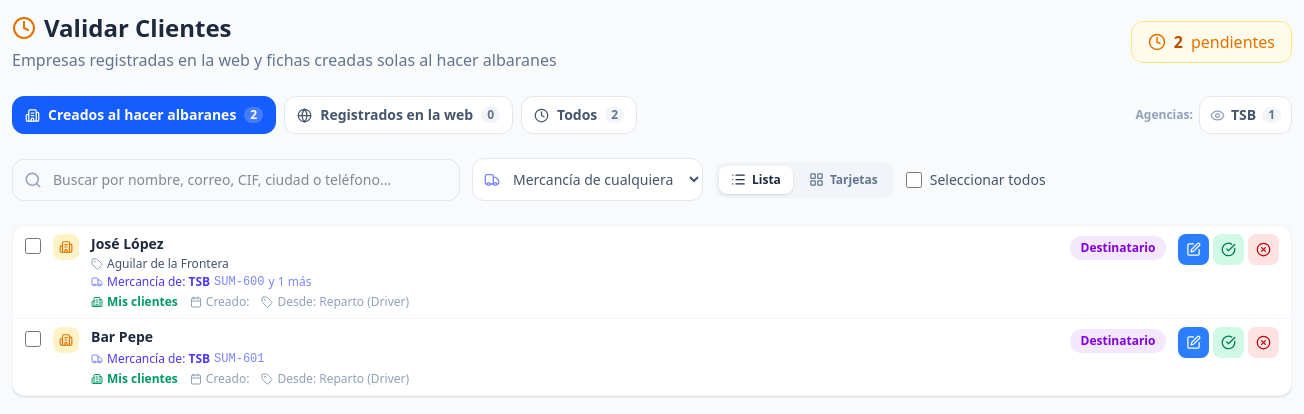
Test: Validar Clientes — quién le mandó la mercancía › el filtro «Mercancía de» deja sólo las fichas de esa empresa, también las del "y 1 más"
# PROSERVICE sólo sale como "y 1 más" en José López: aun así la encuentra.
Select "PROSERVICE (1)" in the dropdown named "quién mandó la mercancía" at (588, 180), box top-left (472, 158), bottom-right (703, 201)
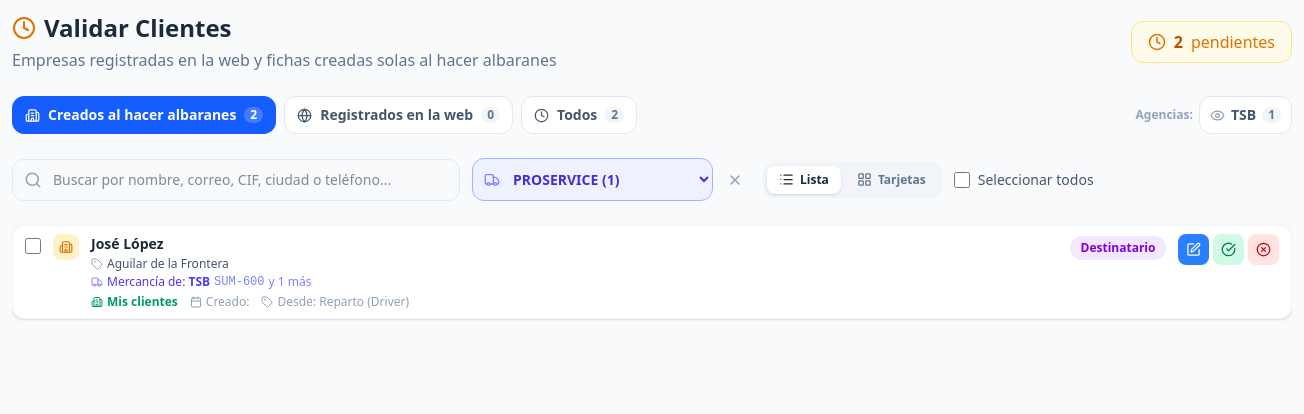
expect the text "José López" is shown: met, box top-left (91, 234), bottom-right (164, 254)
expect the text "Bar Pepe" is gone: met
Select "TSB (2)" in the dropdown named "quién mandó la mercancía" at (592, 180), box top-left (472, 158), bottom-right (713, 201)
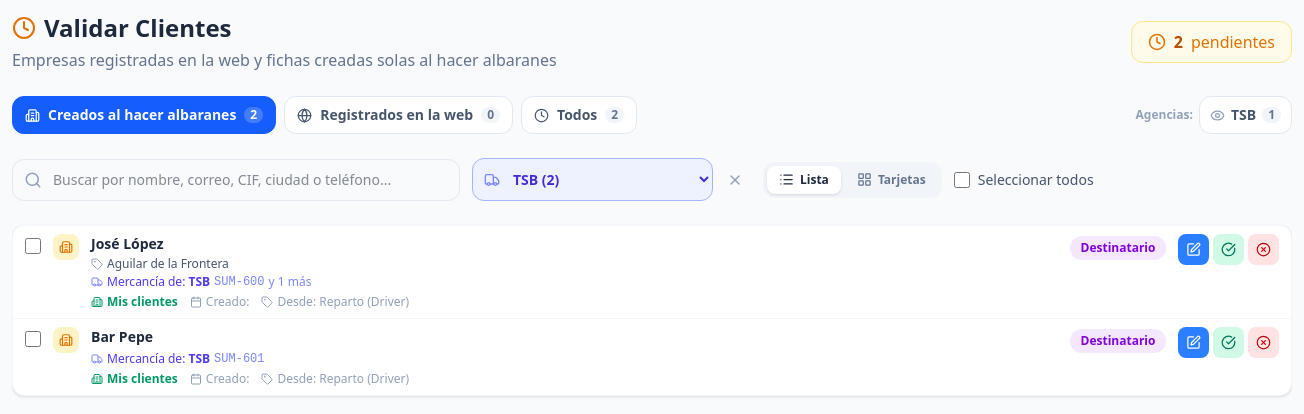
expect the text "José López" is shown: met, box top-left (91, 234), bottom-right (164, 254)
expect the text "Bar Pepe" is shown: met, box top-left (91, 327), bottom-right (153, 347)
